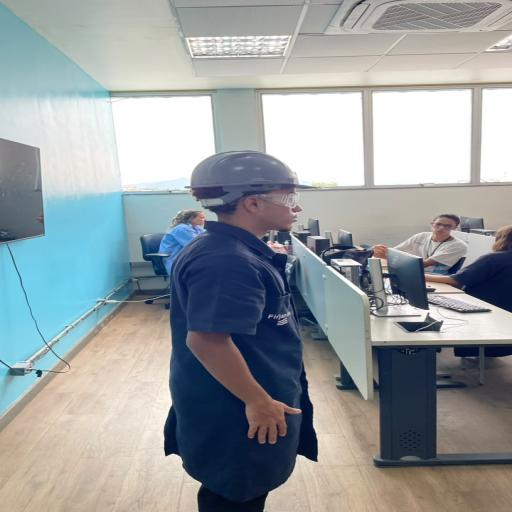CAPACETE: (185, 150, 321, 207)
OCULOS: (248, 192, 302, 208)
